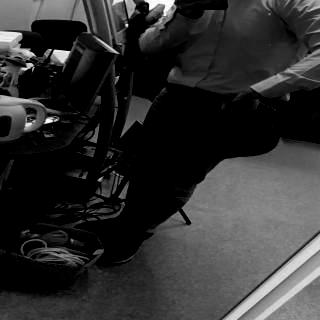kettlebell: (202, 101, 283, 160)
